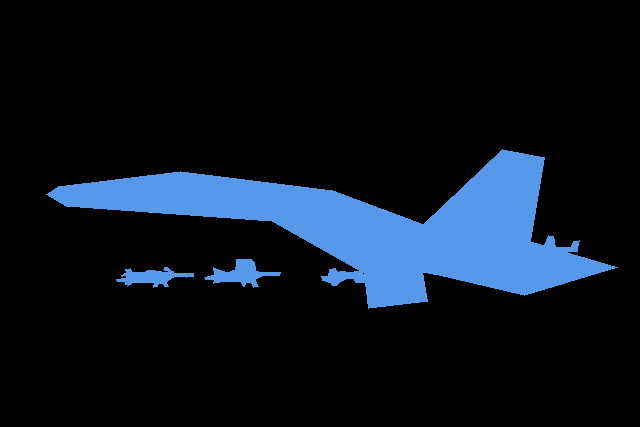Airplane: (46, 149, 617, 308), (204, 259, 281, 287), (116, 267, 194, 287), (321, 268, 366, 285), (541, 235, 580, 252)
